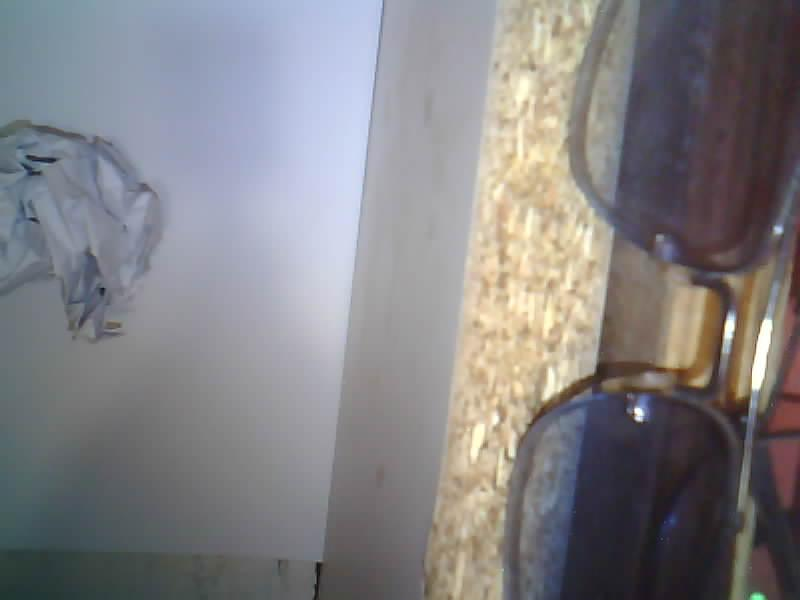biodegradable: (0, 124, 160, 340)
